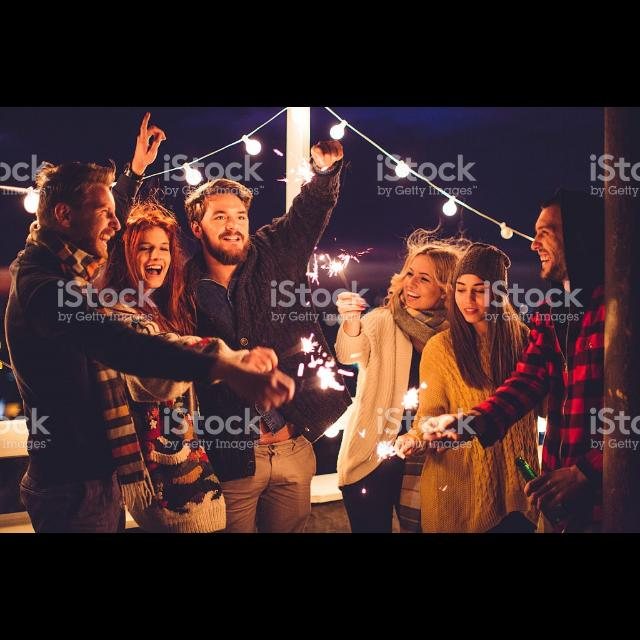head: (39, 174, 123, 262), (530, 193, 600, 285), (186, 183, 254, 265), (115, 214, 173, 290), (403, 244, 459, 312), (455, 253, 507, 325)
